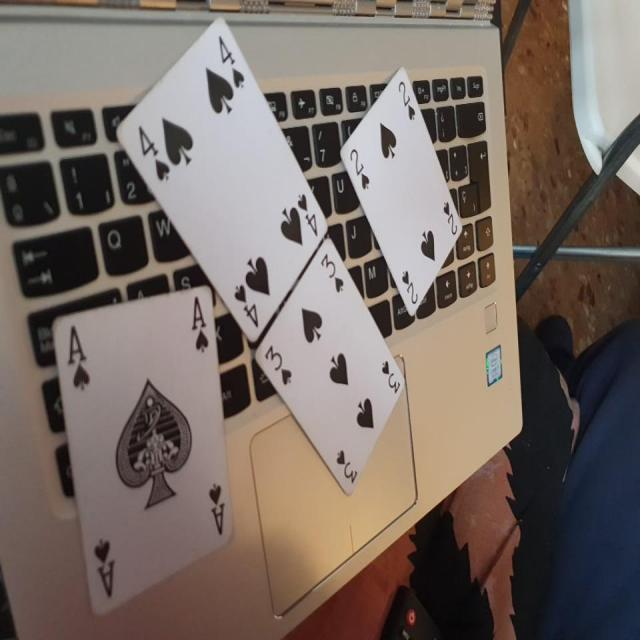2 Spades: (171, 321, 302, 587)
3 Spades: (229, 137, 389, 404)
4 Spades: (306, 286, 524, 624)
A Spades: (404, 18, 597, 360)
